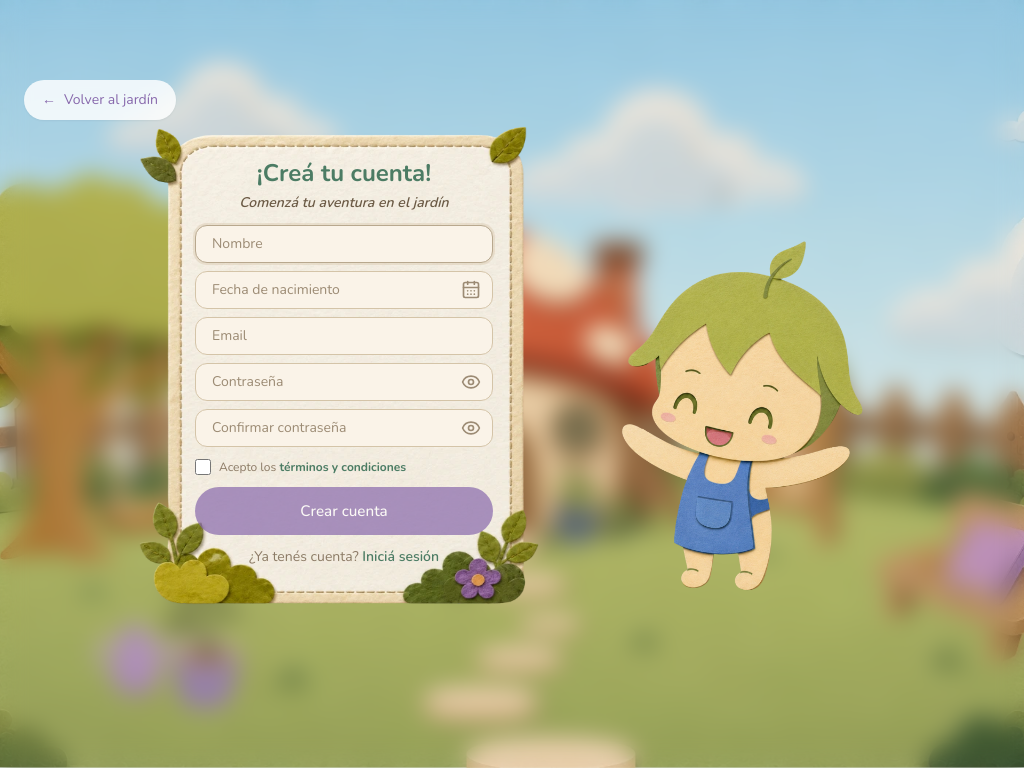
Register › habilita el botón al aceptar términos
What coordinates should you click on to do the following:
click the checkbox
I would click on:
 (203, 467)
Its box is top-left (195, 459), bottom-right (211, 475).
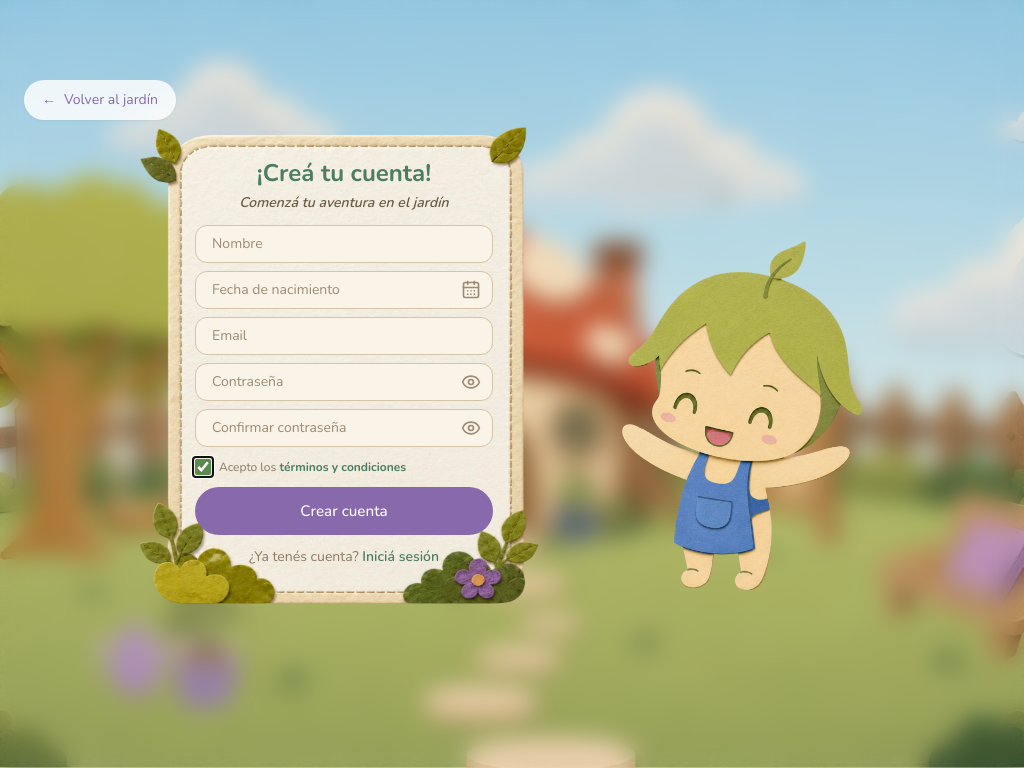
Now the button "Crear cuenta" is enabled, box top-left (195, 487), bottom-right (493, 535)
